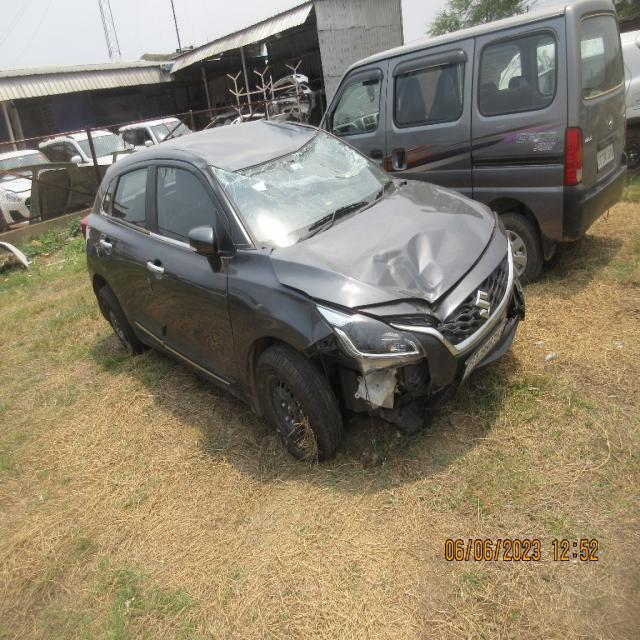damage: (332, 215, 454, 302), (341, 322, 452, 405), (219, 142, 373, 201), (211, 124, 319, 169), (295, 324, 340, 366), (408, 297, 450, 341), (502, 274, 528, 324)
